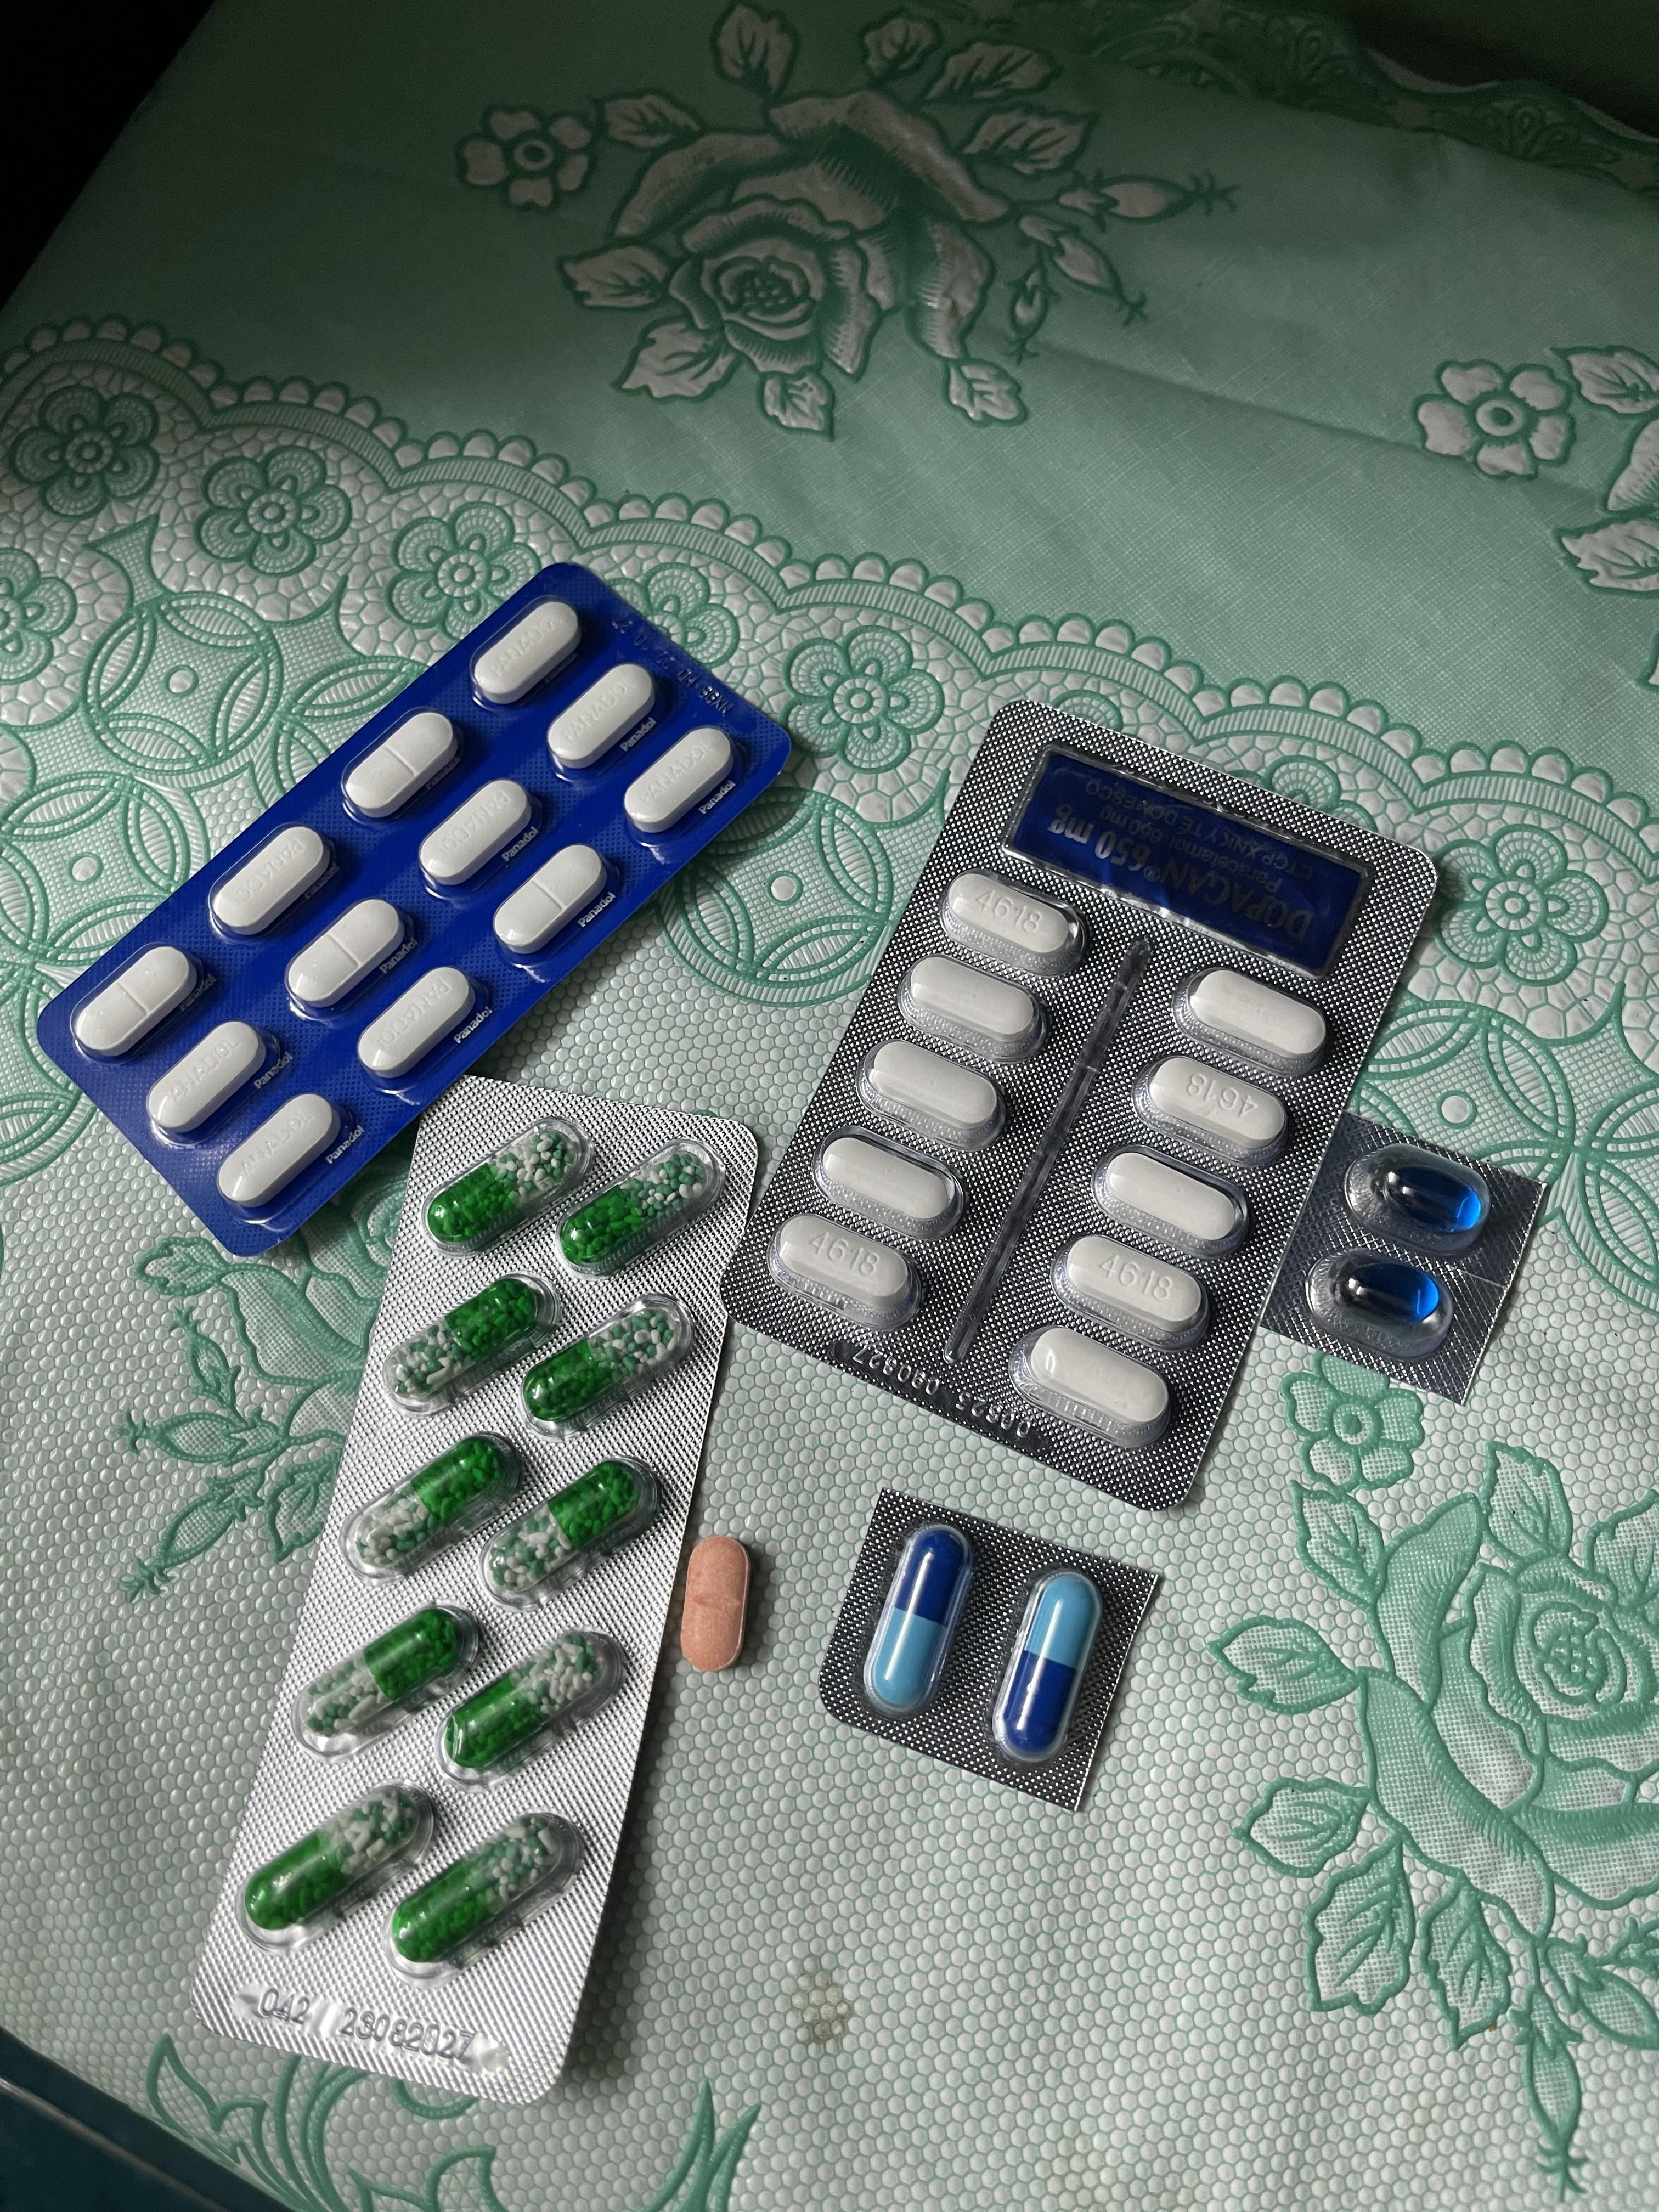Lincomyxin_500mg: (1344, 1261, 1443, 1325), (1384, 1163, 1480, 1228)
Loratadine_10mg: (680, 1534, 748, 1676)
Paracetamol_350mg: (150, 1017, 272, 1137), (73, 944, 197, 1062), (218, 1090, 343, 1207), (286, 899, 408, 1015), (211, 822, 333, 937), (357, 967, 477, 1082), (493, 845, 610, 961), (418, 777, 535, 888), (624, 725, 739, 836), (343, 712, 458, 820), (547, 664, 659, 772), (472, 599, 582, 707)
Paracetamol_500mg: (1056, 1233, 1211, 1350), (1138, 1054, 1293, 1170), (1087, 1146, 1244, 1259), (769, 1217, 911, 1341), (812, 1134, 969, 1245), (859, 1042, 1007, 1157), (1176, 968, 1326, 1080), (901, 956, 1049, 1066), (939, 873, 1082, 981), (1032, 1327, 1175, 1430)
Paracetamol_650mg: (235, 1784, 437, 1952), (390, 1810, 584, 1980), (436, 1629, 626, 1784), (378, 1275, 559, 1414), (422, 1120, 592, 1252), (303, 1608, 472, 1740), (556, 1141, 716, 1275), (352, 1439, 518, 1568), (491, 1465, 645, 1594), (525, 1303, 680, 1426)
pill: (990, 1562, 1105, 1766), (863, 1522, 978, 1717)
